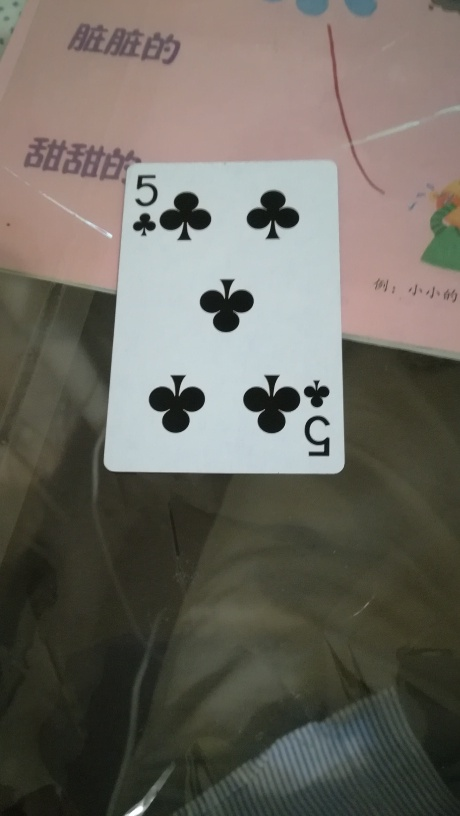mh 5: (101, 165, 344, 477)
